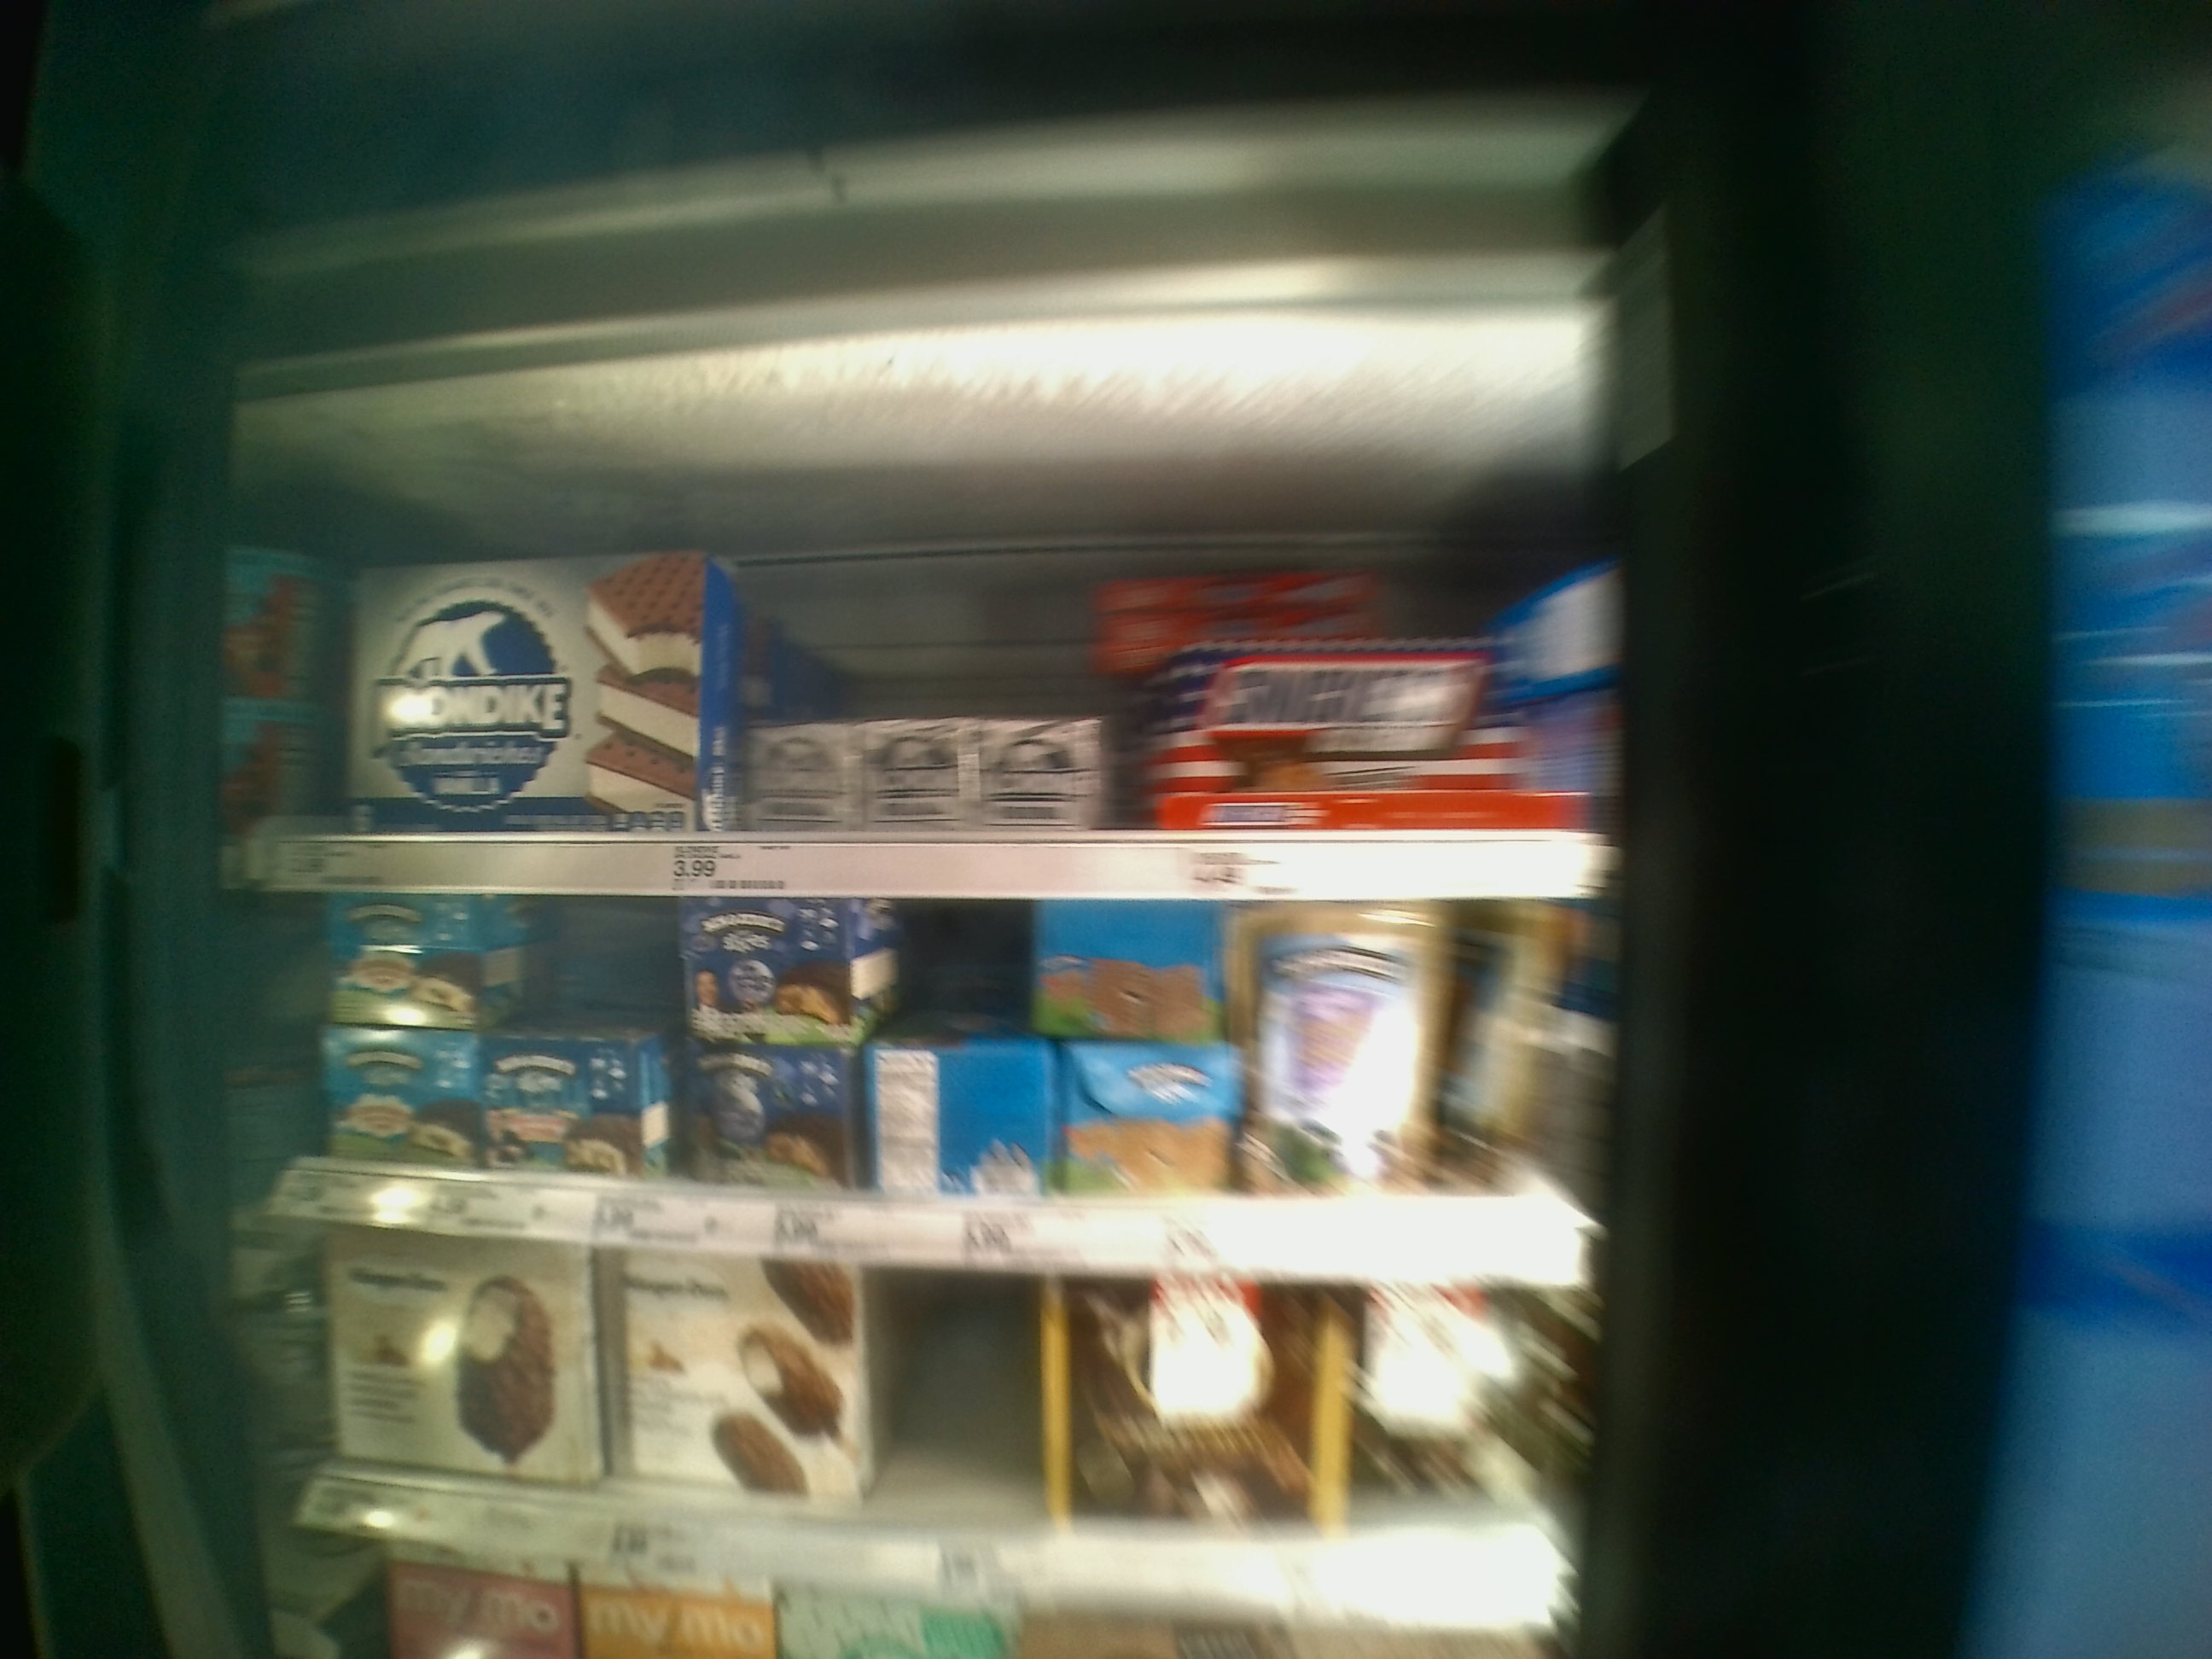shelf: (239, 446, 1606, 897), (235, 884, 1606, 1293)
